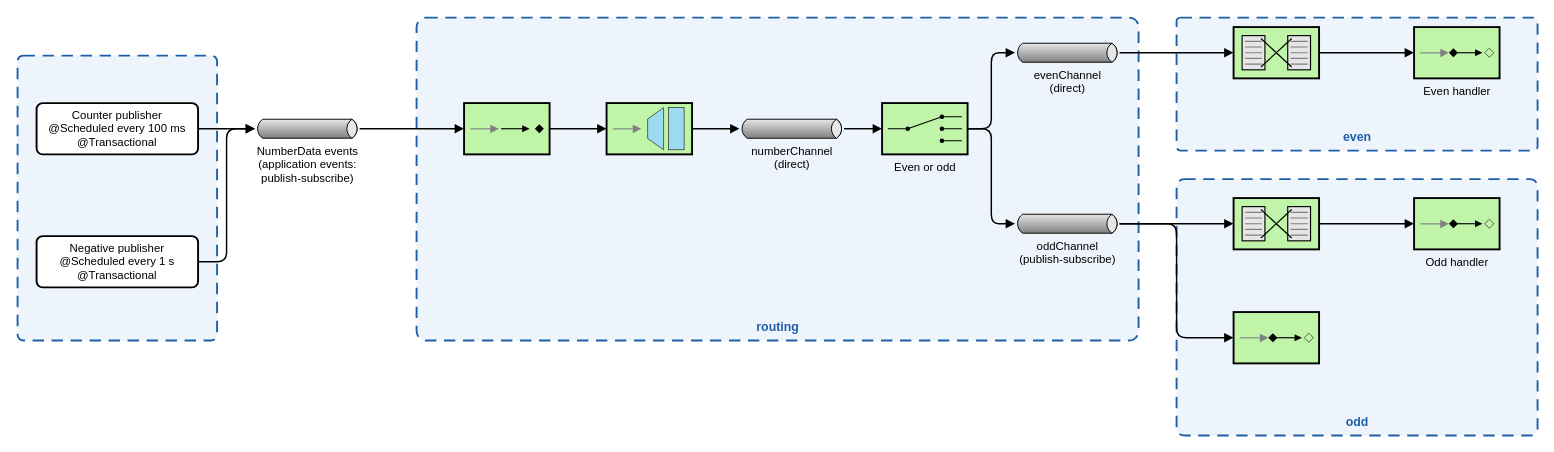
Image size: 1554x452. Some labels were removed from this diagram. The shapes that lost their labels are listed below. From the top down, each one's box as (x1, y1, x2, y2) in pixels, then its label:
(1232, 26, 1320, 79): Even translator NumberData → EvenNumberData
(463, 102, 550, 155): Listener @ApplicationModuleListener
(605, 102, 693, 155): SendNumber gateway
(16, 54, 218, 341): numbers
(1232, 197, 1320, 250): Odd translator NumberData → OddNumberData
(1232, 311, 1320, 364): SomeService
